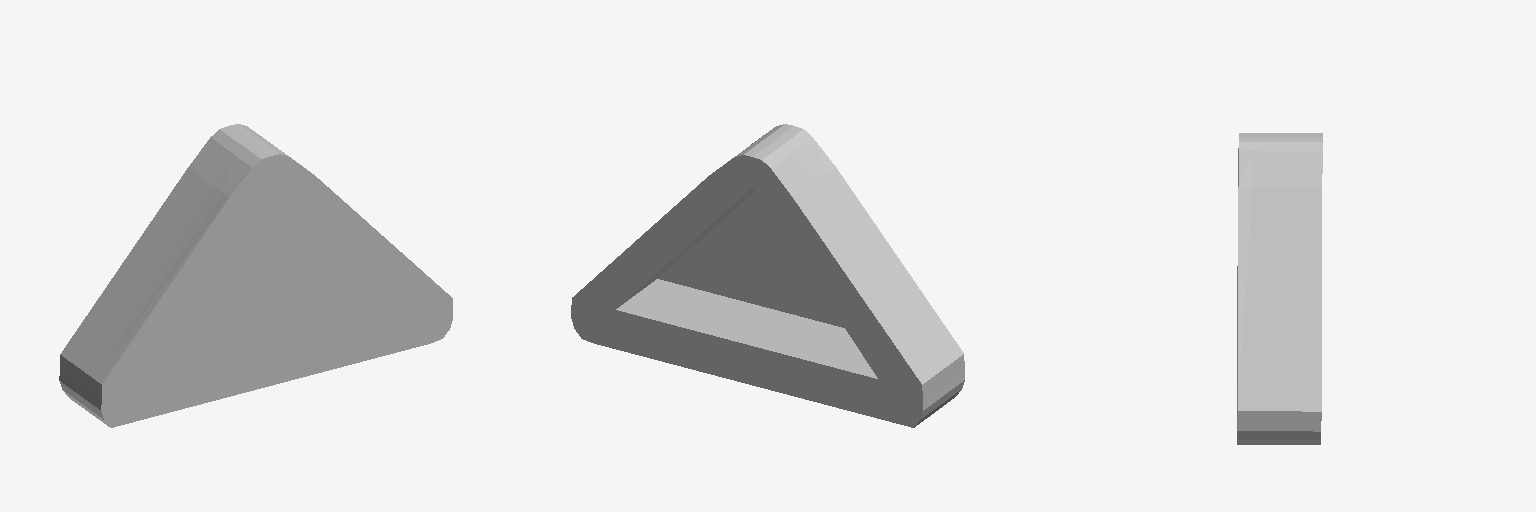
The model's file is wheel.obj.
3 views of the same model, side by side, from view 1: azimuth 30°, elevation 25°; view 2: azimuth 150°, elevation 25°; view 3: azimuth 270°, elevation 25° (orthographic).
Parts seen in each view (by area): view 1: ChainRight_Cube; view 2: ChainRight_Cube; view 3: ChainRight_Cube.
Part boxes in pixels (left/top/right/bottom): ChainRight_Cube: left=59, top=124, right=452, bottom=427; ChainRight_Cube: left=571, top=124, right=964, bottom=427; ChainRight_Cube: left=1237, top=133, right=1322, bottom=444.
Bounding box in the file's own units: 1.99 × 1.26 × 0.4179.